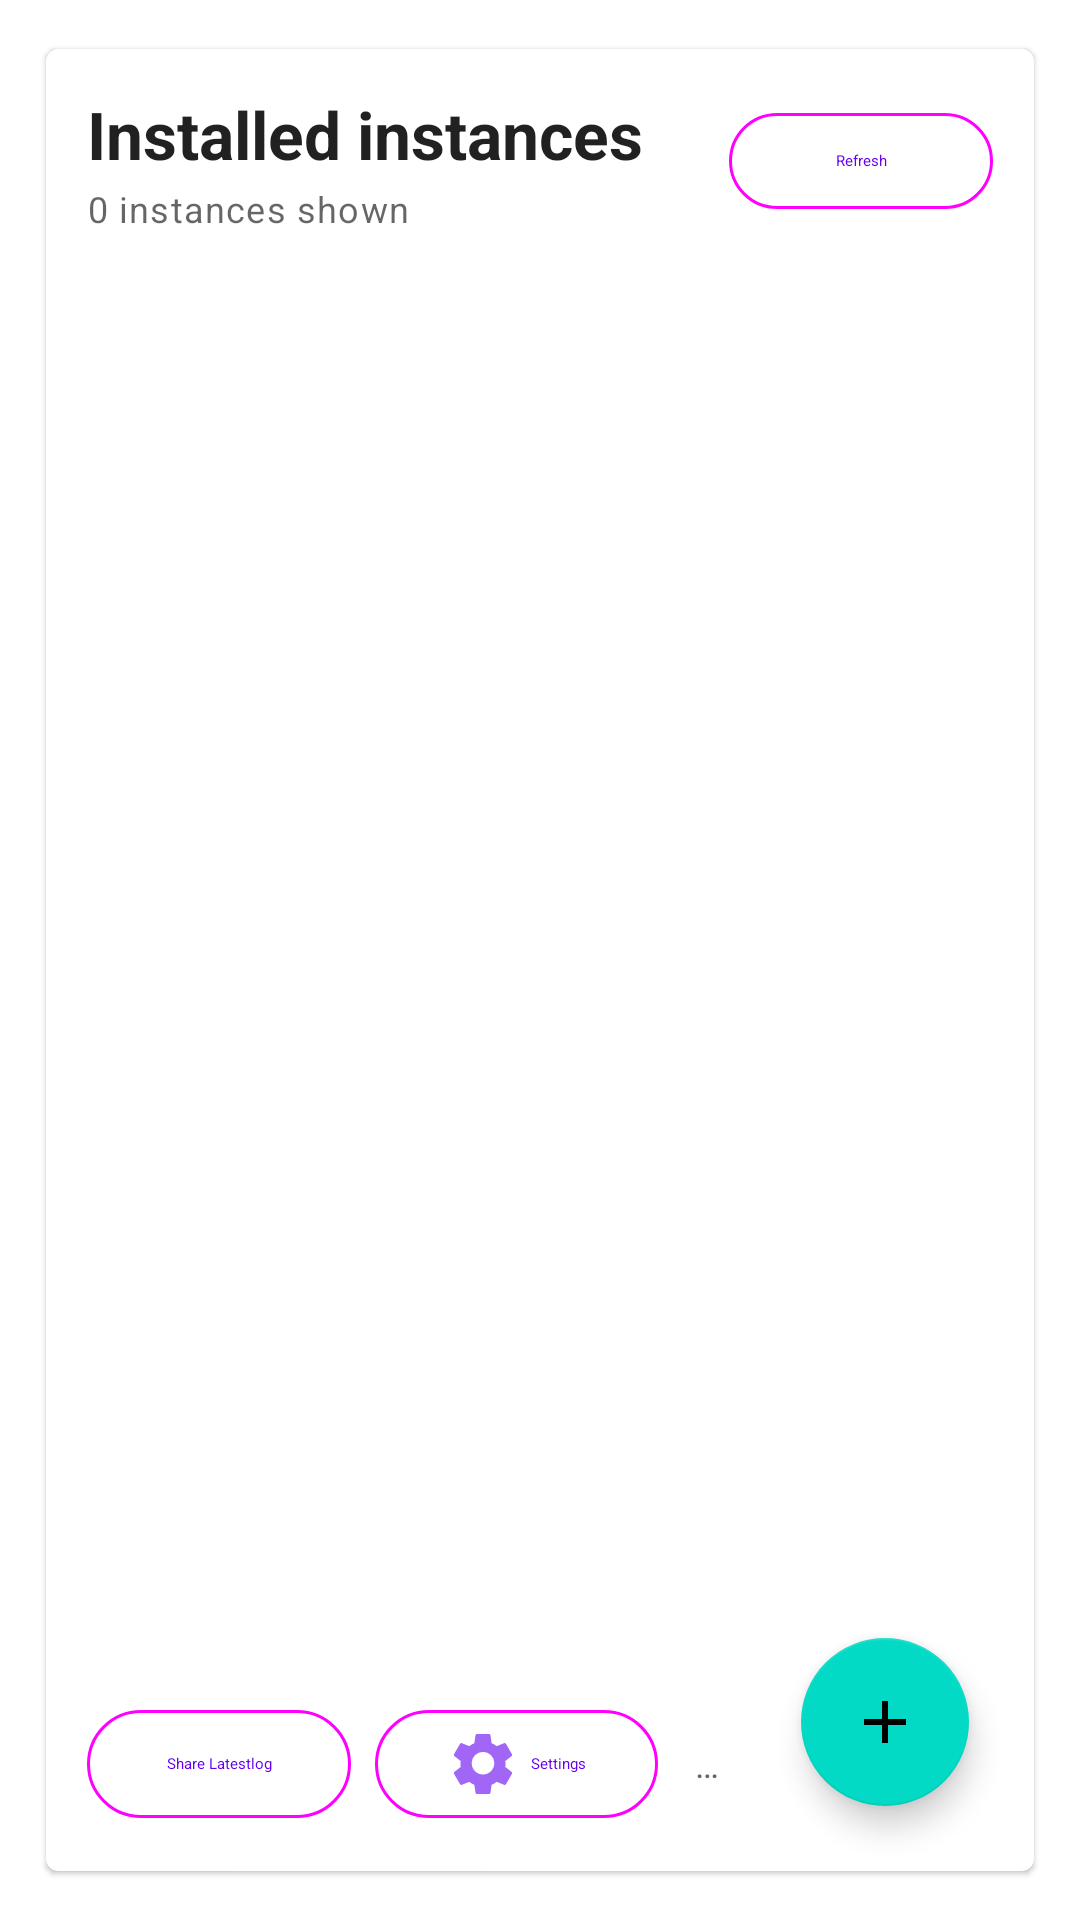

Where icons sit on this 1080px x 1920px app screen, as (x1, y1, x2, y2):
Create instance: (801, 1638, 969, 1806)
